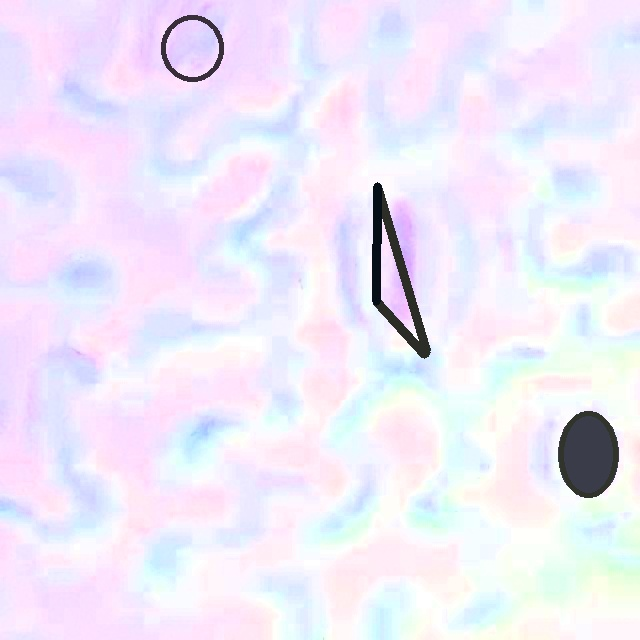open: (373, 182, 430, 358), (558, 411, 617, 496), (159, 14, 225, 83)
